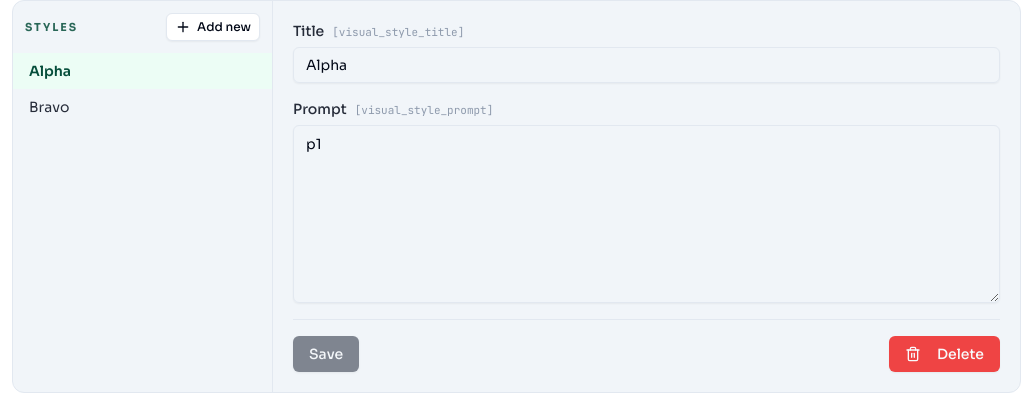
Test case: VisualStyleGallery — selection & dirty state › clicking a different row swaps the right-pane content
Check: the field showing "Alpha" is shown, box [293,47,1000,83]
Click the option "Bravo": (142,107) [13,89,272,125]
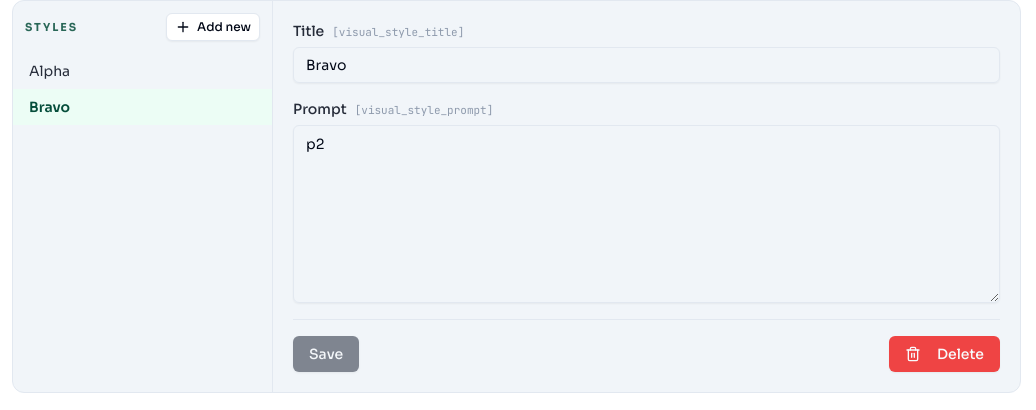
Check: the field labelled "Title [visual_style_title]" holds "Bravo", box [293,47,1000,83]
Check: the text box labelled "Prompt [visual_style_prompt]" holds "p2", box [293,125,1000,303]
